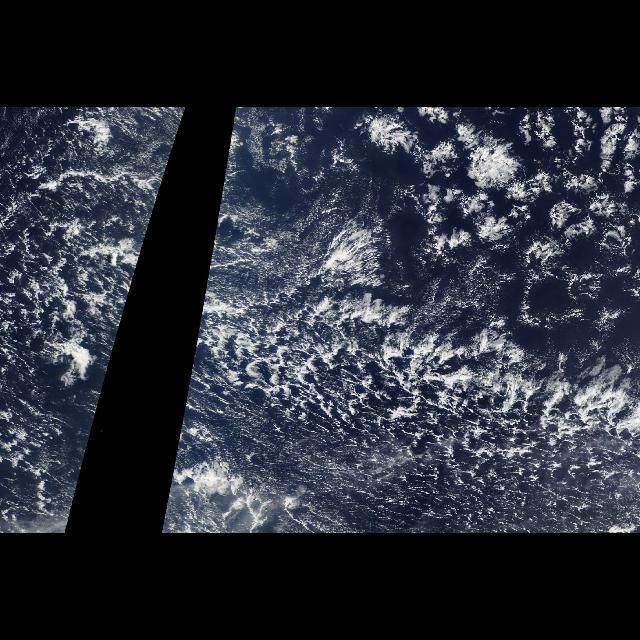Fish: (164, 203, 638, 513), (30, 203, 156, 513)
Flower: (370, 111, 634, 316)
Gravel: (202, 270, 640, 532), (0, 110, 142, 360)
Sugar: (206, 108, 348, 282), (206, 412, 408, 534)
